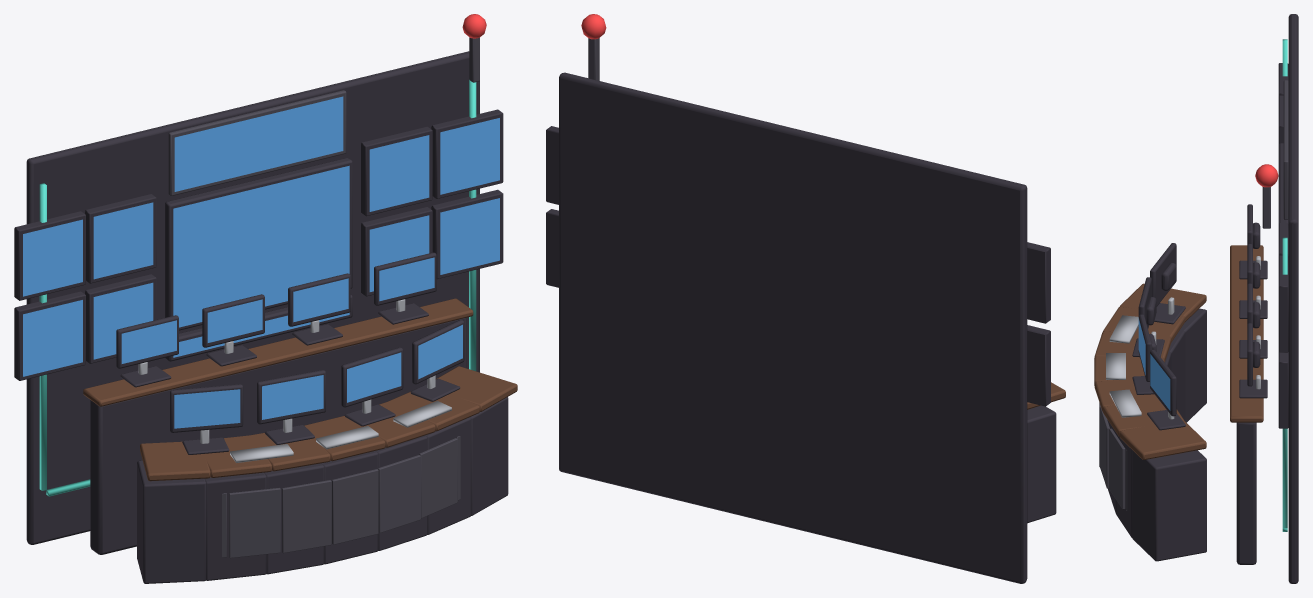
Rendered from noc_l3.glb.
3 renders of one model, left to right at view 1: azimuth 30°, elevation 25°; view 2: azimuth 150°, elevation 25°; view 3: azimuth 270°, elevation 25°, orthographic. The views are drawn at different scales.
Parts seen in each view (by area): view 1: noc_l3, noc_wall0_screen, noc_sign_screen, noc_wall1_screen, noc_wall5_screen, noc_wall2_screen, noc_wall4_screen, noc_wall6_screen, noc_wall8_screen, noc_wall3_screen, noc_wall7_screen, noc_desk0_screen (+8 smaller); view 2: noc_l3; view 3: noc_l3, noc_desk3_screen, noc_beacon_led.
Boxes of the visible parts, x1,y1,x2,y2 form: noc_l3: (14,37,517,583); noc_wall0_screen: (173,165,349,327); noc_sign_screen: (174,96,343,191); noc_wall1_screen: (93,202,153,279); noc_wall5_screen: (369,135,429,211); noc_wall2_screen: (23,219,82,296); noc_wall4_screen: (23,300,82,376); noc_wall6_screen: (440,118,499,194); noc_wall8_screen: (440,198,499,274); noc_wall3_screen: (93,282,153,359); noc_wall7_screen: (369,215,429,291); noc_desk0_screen: (174,389,240,428); noc_l3: (546,38,1065,583); noc_l3: (1094,14,1298,583); noc_desk3_screen: (1150,354,1170,410); noc_beacon_led: (1255,164,1278,187).
Bounding box in the file's own units: 3.16 × 2.71 × 1.22.
